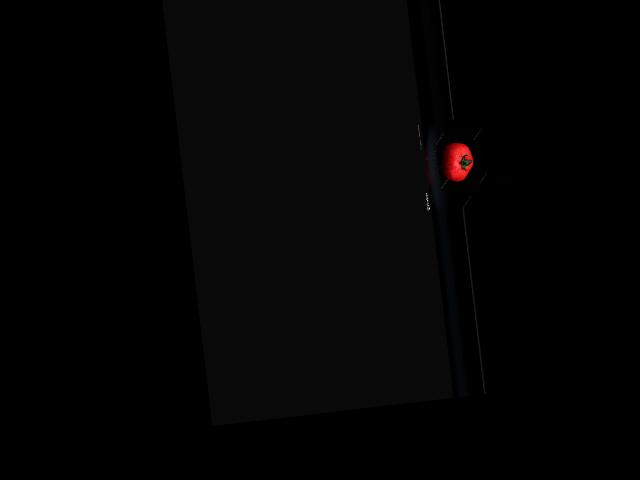tomato: (437, 140, 475, 183)
